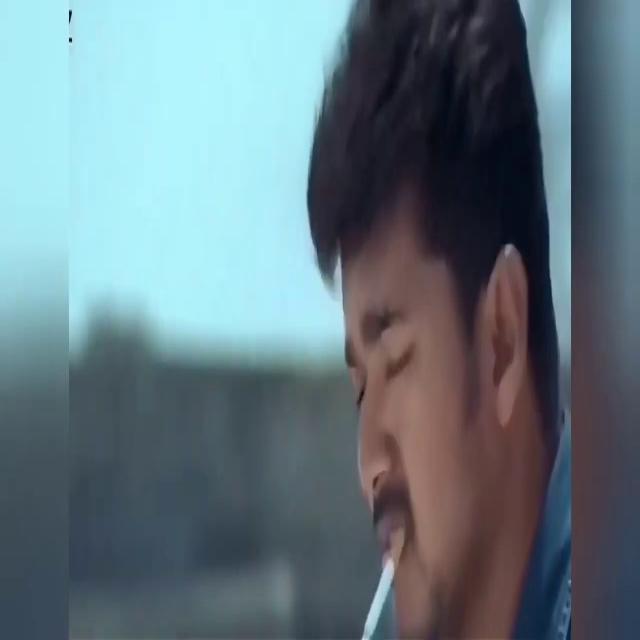smoking: (358, 544, 414, 608)
